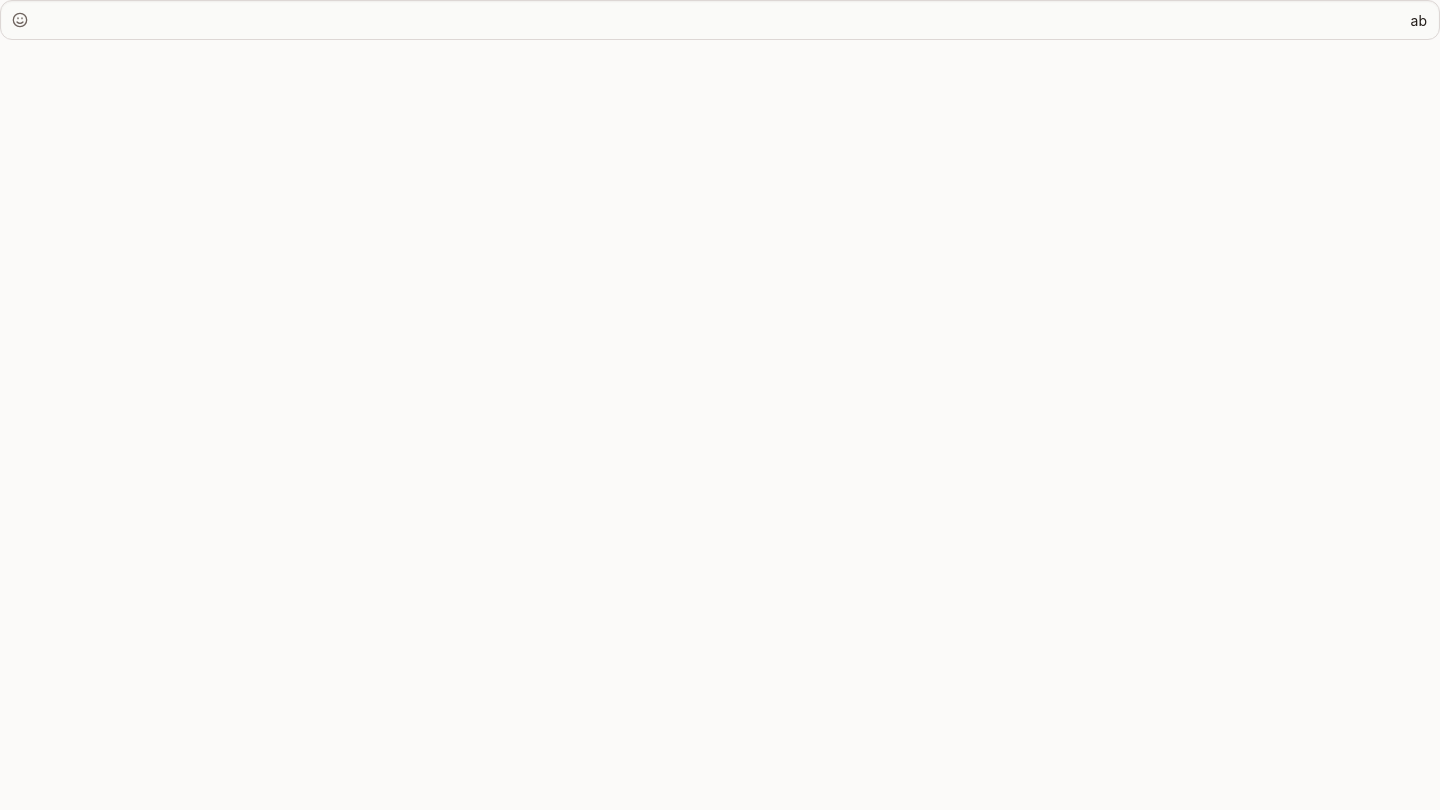
Test: inside EmojiProvider › Input is opt-in: no button by default, button + insertion with `emoji`
Later steps or results of the test are not shown.
Click the button with test id "emoji-picker-trigger".
click(20, 20)  # box [6, 6, 34, 34]
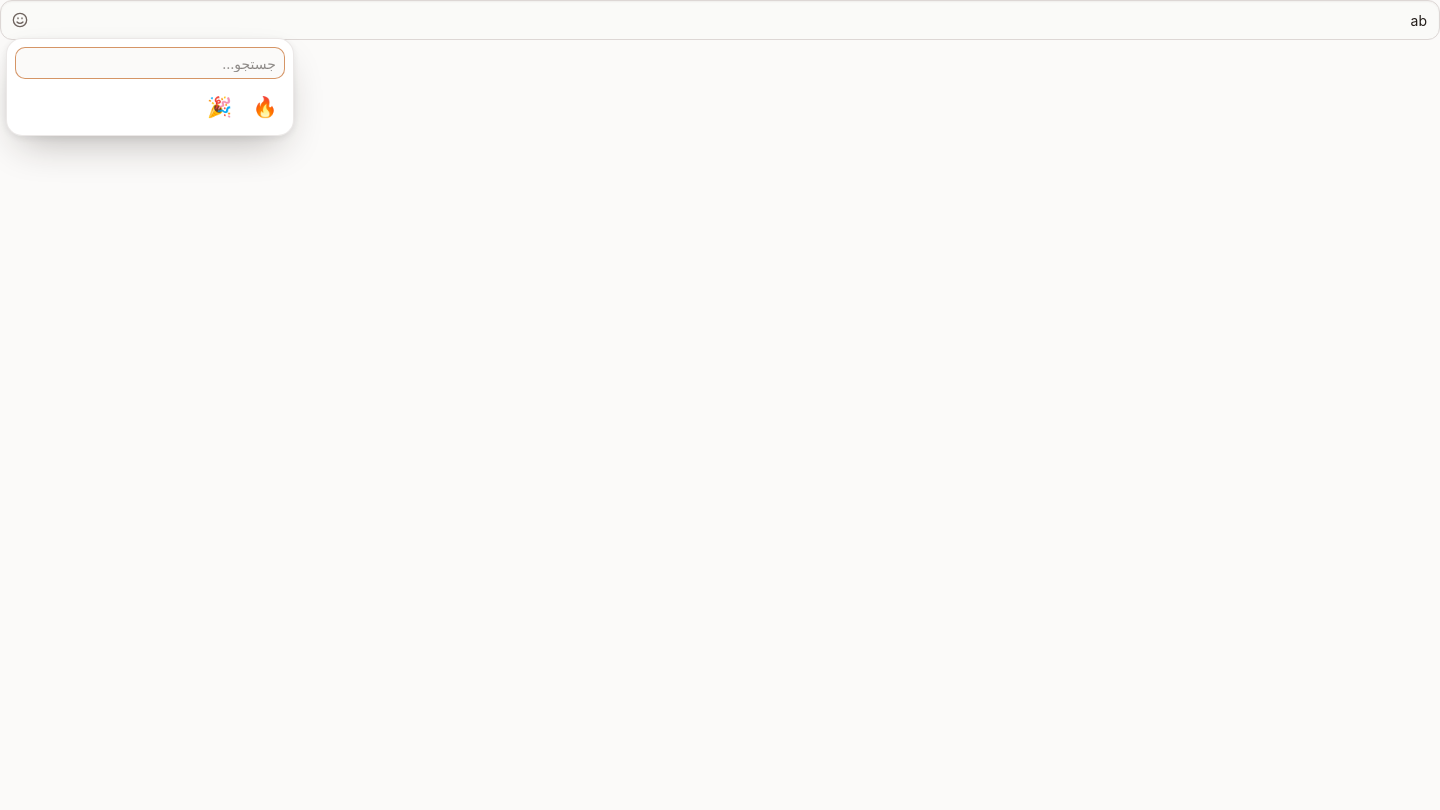
Click the option "🎉".
click(219, 107)  # box [199, 87, 239, 127]
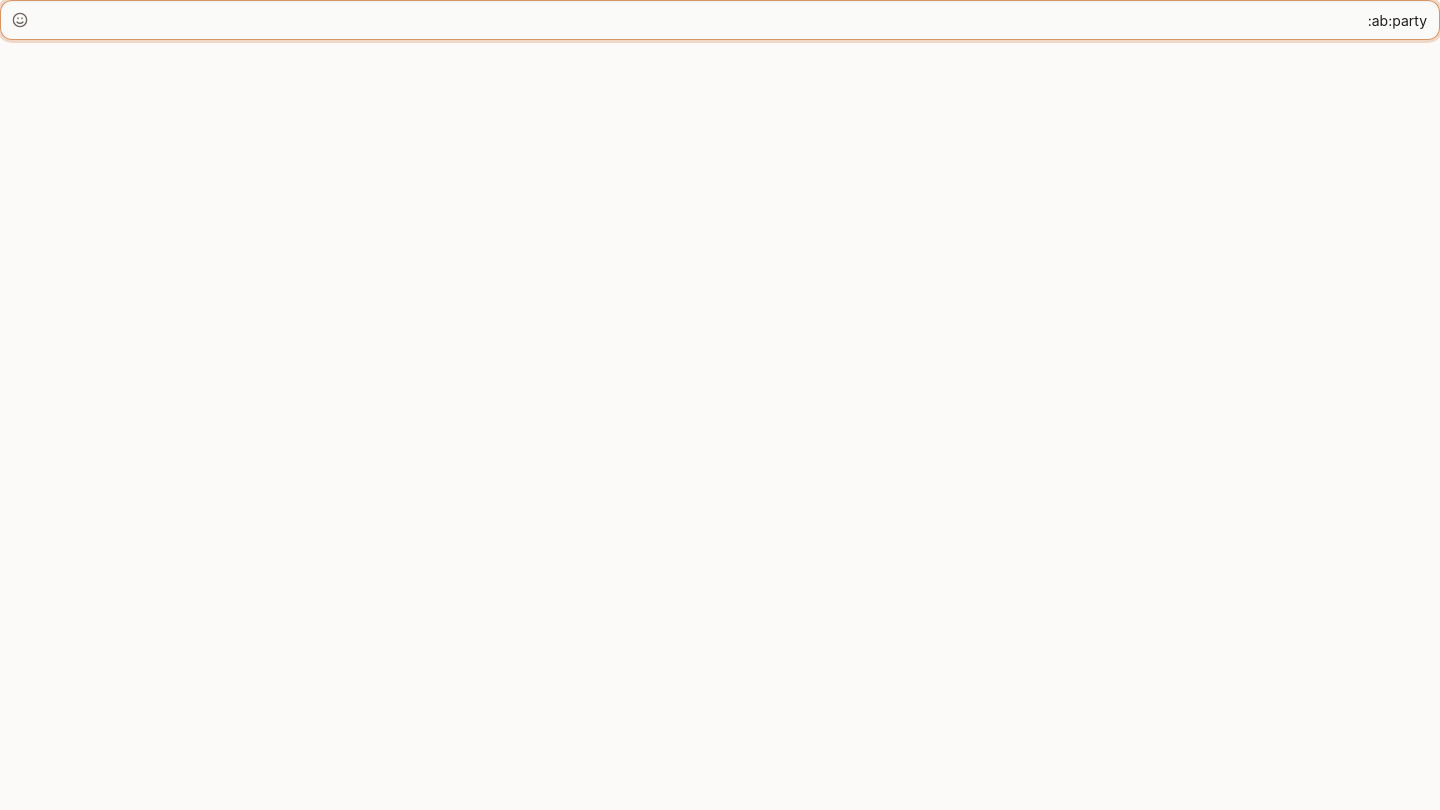
Result: the field named "t2" holds "ab:party:" at [0, 0, 1439, 40]
